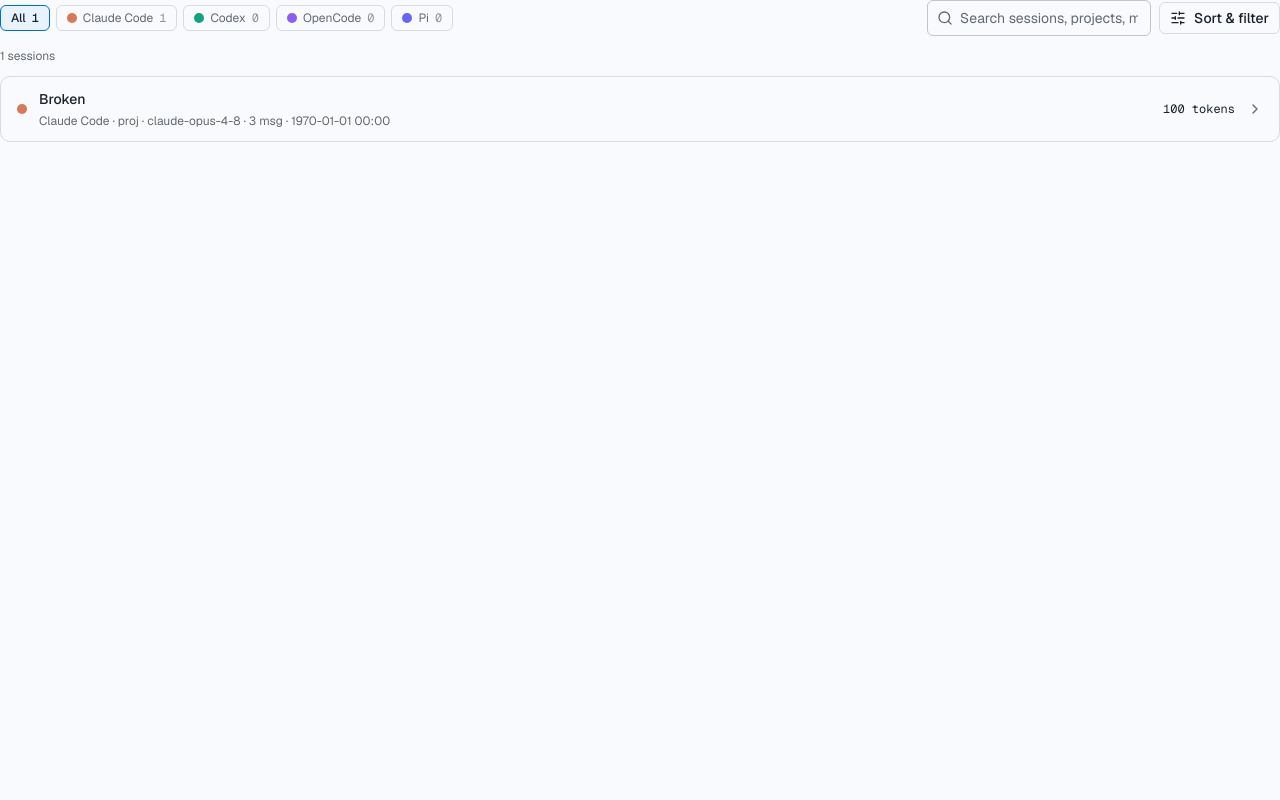
Test: SessionBrowser › shows a load-failed message when the fetch rejects
Click the text "Broken" at (62, 99), box [39,90,86,108]
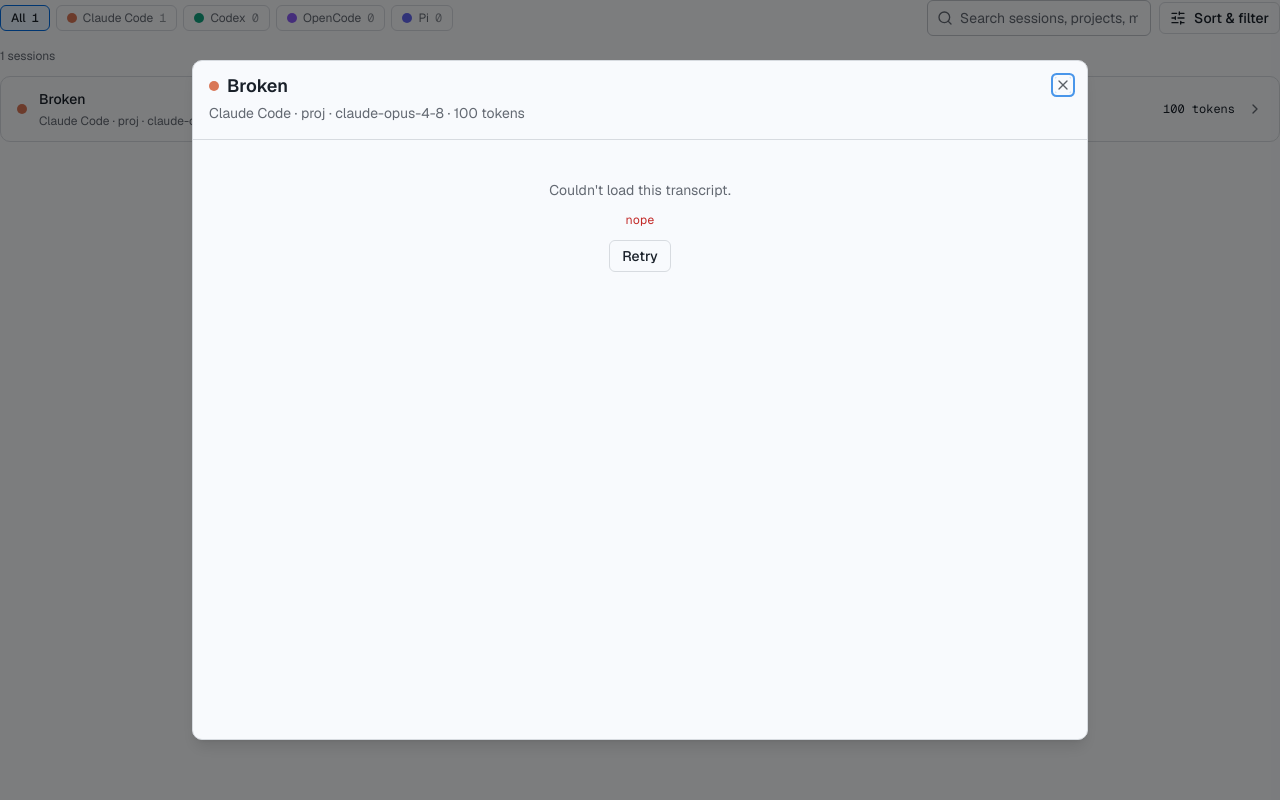
Expected: the text "Couldn't load this transcript." is shown, [549,180,731,200]
Expected: the text "nope" is shown, [626,212,654,228]
